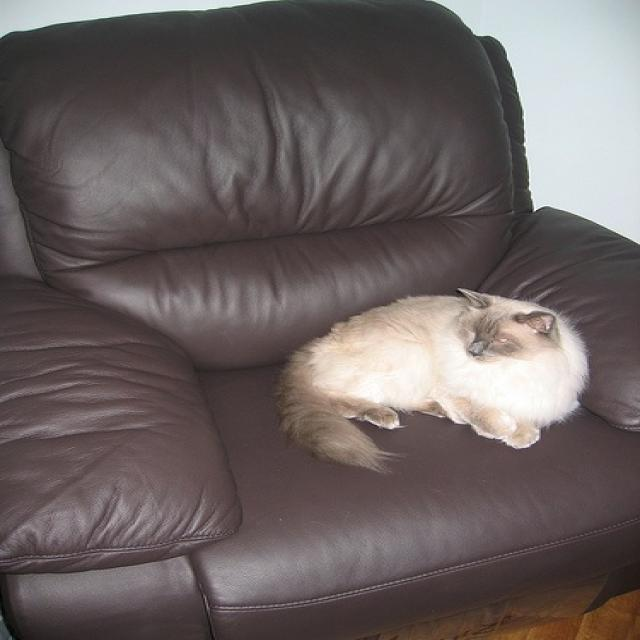cat: (275, 285, 594, 470)
chair: (0, 1, 637, 639)
